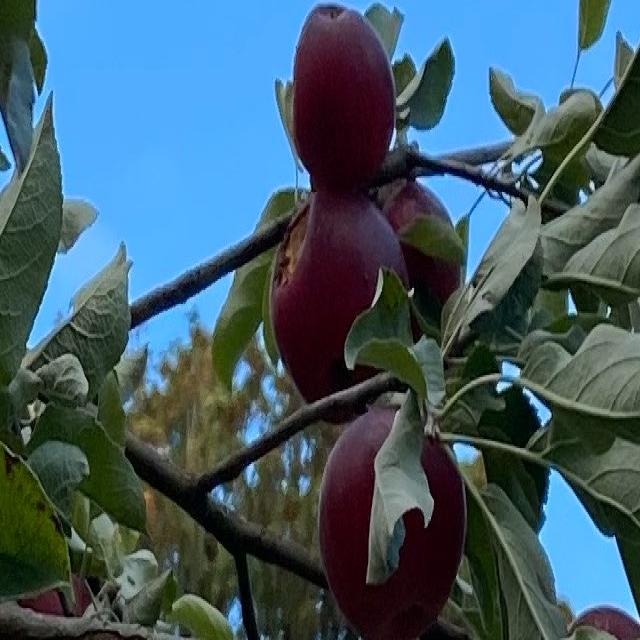100-_ripeness: (321, 409, 466, 635), (271, 192, 407, 418), (294, 4, 395, 183), (389, 176, 461, 306)
